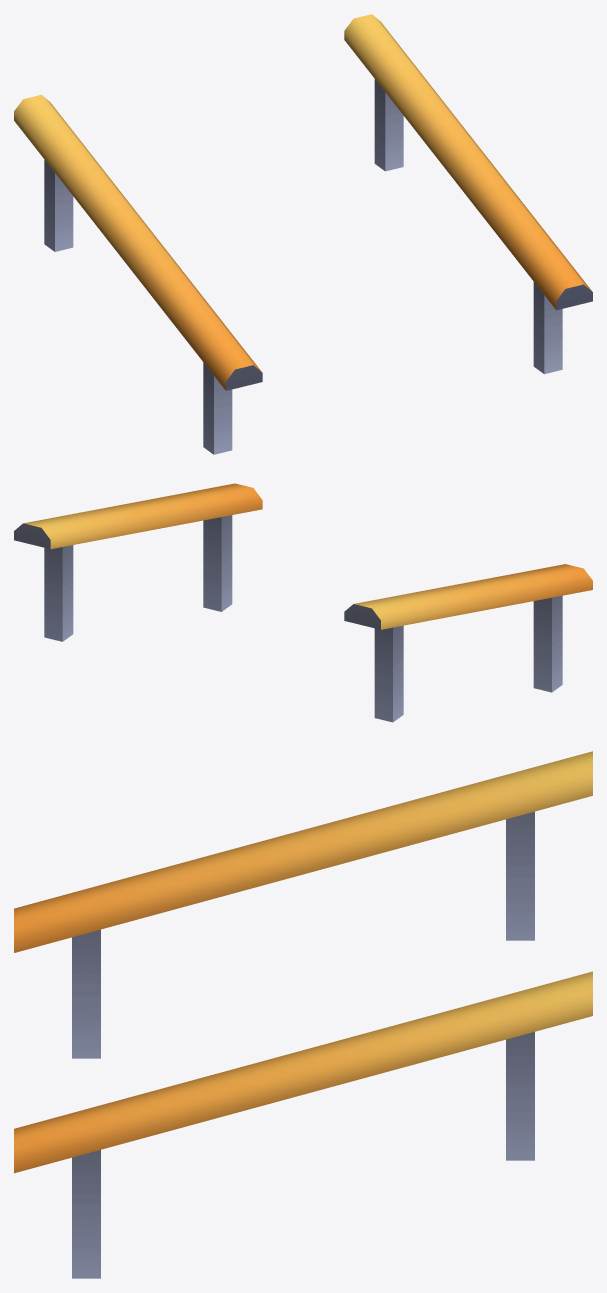
Rendered from stairs-handrail.glb.
The picture shows the model from 3 angles, top to bottom: view 1: azimuth 30°, elevation 25°; view 2: azimuth 150°, elevation 25°; view 3: azimuth 270°, elevation 25°; orthographic projection. The views are drawn at different scales.
Visible parts, largest first — view 1: stairs-handrail; view 2: stairs-handrail; view 3: stairs-handrail.
Boxes of the visible parts, x1=… form: stairs-handrail: x1=14, y1=14, x2=592, y2=454; stairs-handrail: x1=14, y1=483, x2=592, y2=722; stairs-handrail: x1=14, y1=751, x2=592, y2=1278.
Size of the model in its own units: 1 by 0.5625 by 1.
Materials: 1 (1 with a texture image).
